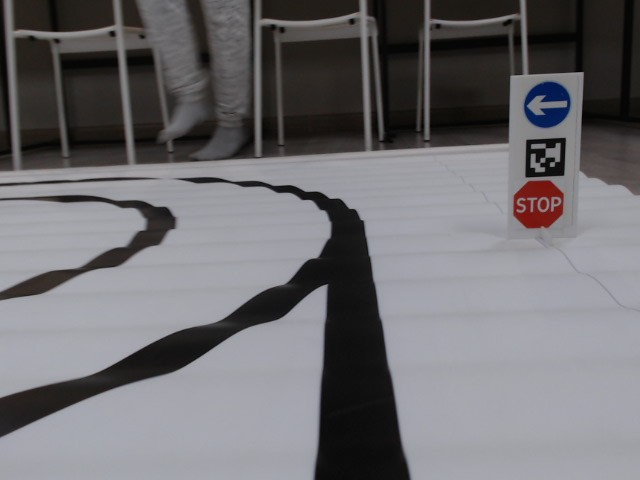Stop: (514, 180, 563, 228)
